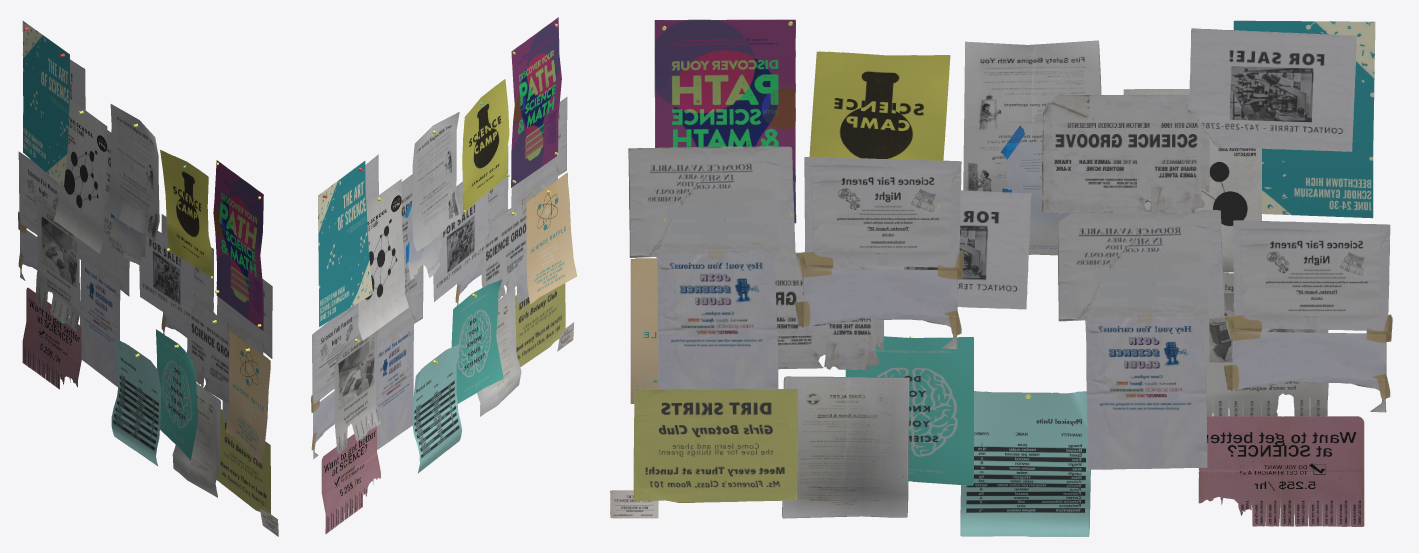
File: SM_Corkboard_01b.fbx
3 views of the same model, side by side, from view 1: azimuth 30°, elevation 25°; view 2: azimuth 150°, elevation 25°; view 3: azimuth 270°, elevation 25° (orthographic). The views are drawn at different scales.
Visible parts, largest first — view 1: SM_Corkboard_01b_LOD0; view 2: SM_Corkboard_01b_LOD0; view 3: SM_Corkboard_01b_LOD0.
Part boxes in pixels (bbox=[...]): SM_Corkboard_01b_LOD0: bbox=[18, 21, 278, 536]; SM_Corkboard_01b_LOD0: bbox=[311, 17, 576, 534]; SM_Corkboard_01b_LOD0: bbox=[610, 19, 1392, 536].
Size of the model in its own units: 3.82 by 136 by 99.72.
